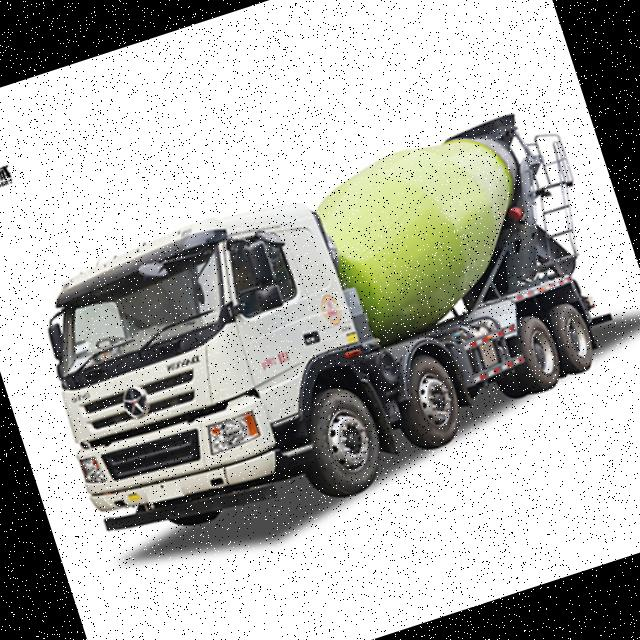Mixer Truck: (16, 100, 640, 572)
